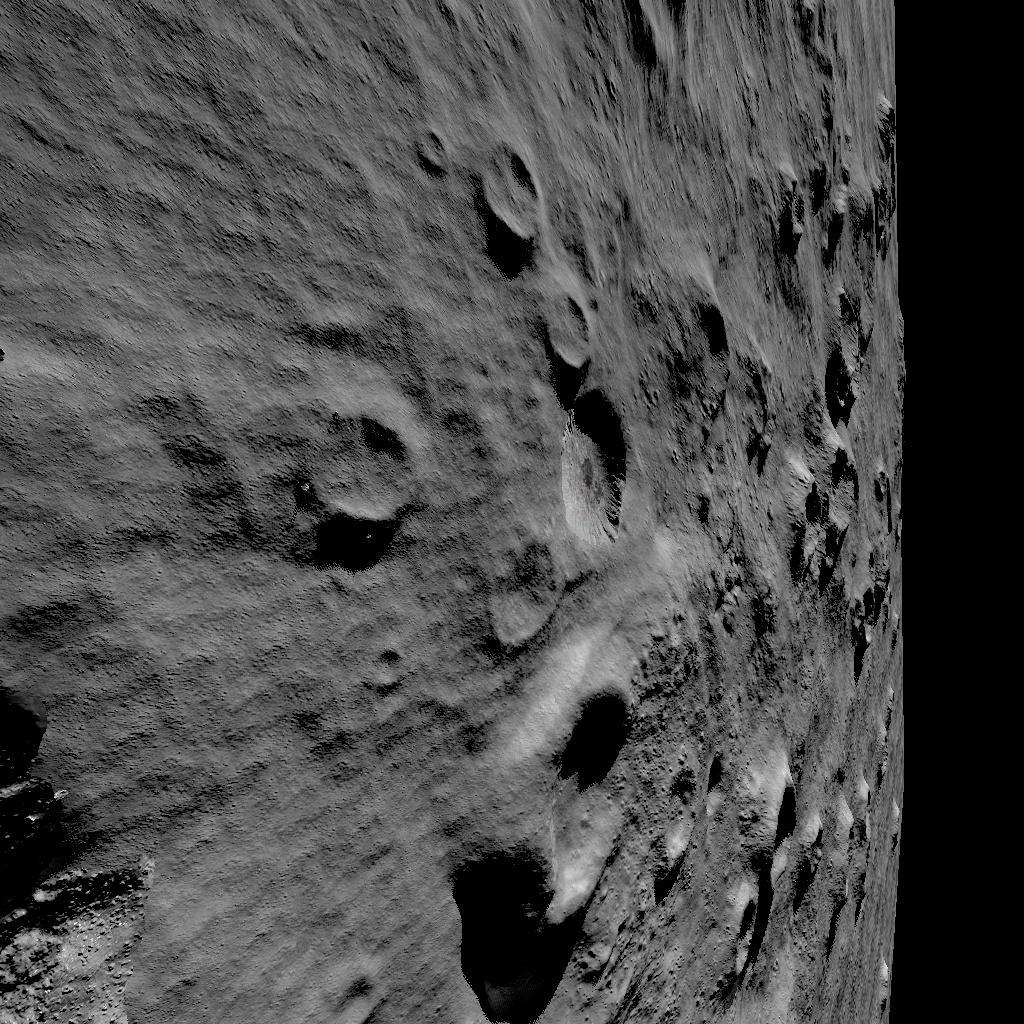Crater: (440, 652, 636, 1012), (478, 140, 636, 545), (656, 722, 873, 982), (794, 308, 888, 648), (568, 0, 870, 100), (671, 295, 765, 490), (301, 410, 423, 535), (774, 125, 886, 255)
Plan surface: (0, 0, 386, 395), (147, 565, 428, 1024), (0, 422, 198, 542)
